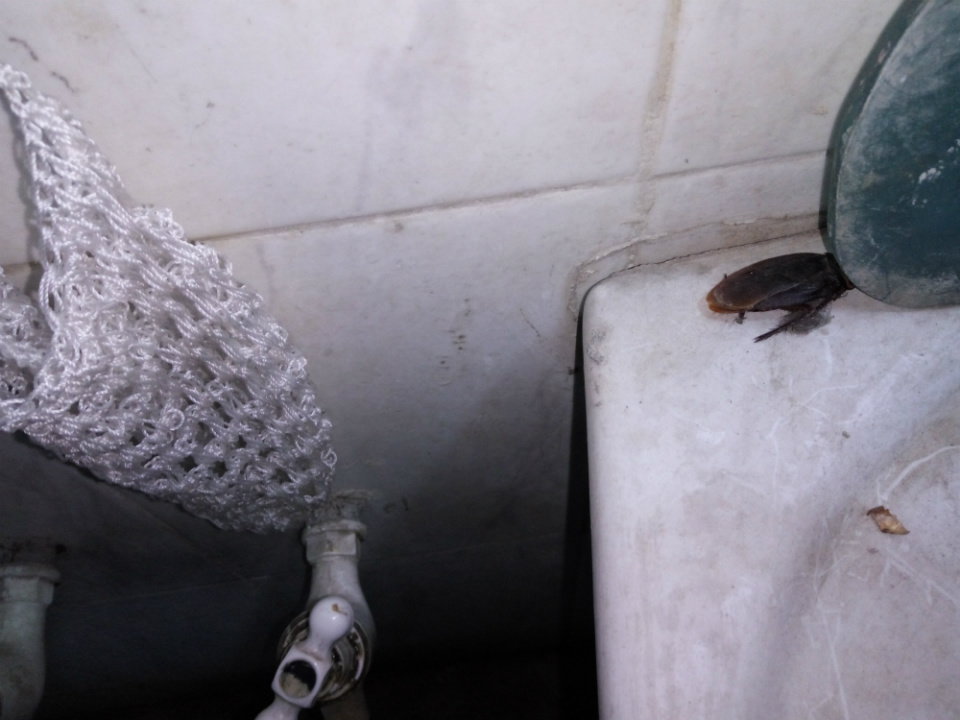cockroach: (647, 212, 859, 355)
